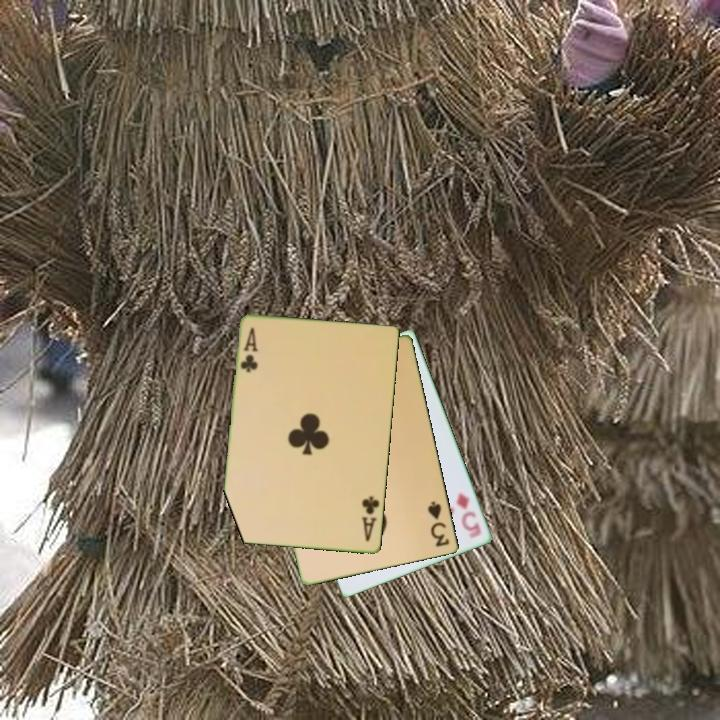3s: (424, 498, 453, 550)
5d: (453, 489, 485, 541)
Ac: (358, 493, 383, 544), (237, 324, 261, 376)
